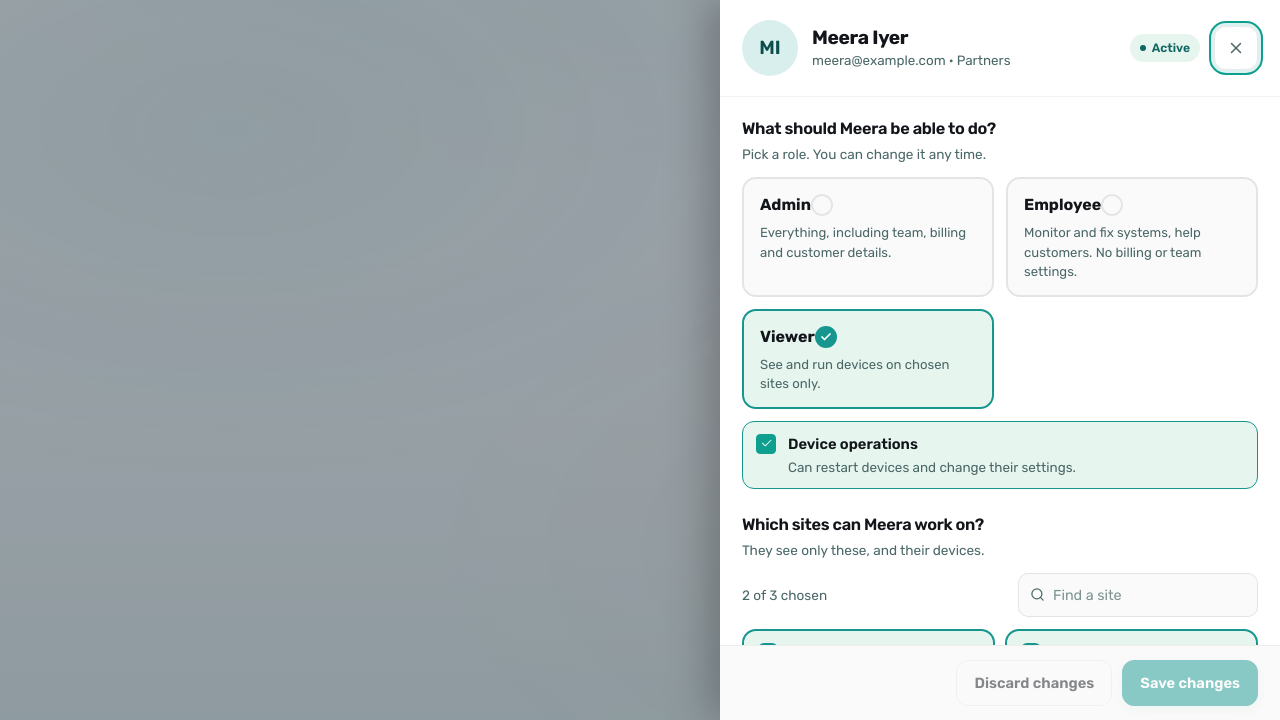
Scenario: PersonPanel › tells you the site list is cleared when a viewer becomes an employee
Click the radio button labelled "Employee". click: {"x": 1132, "y": 237}
box: top-left (1006, 178), bottom-right (1258, 297)
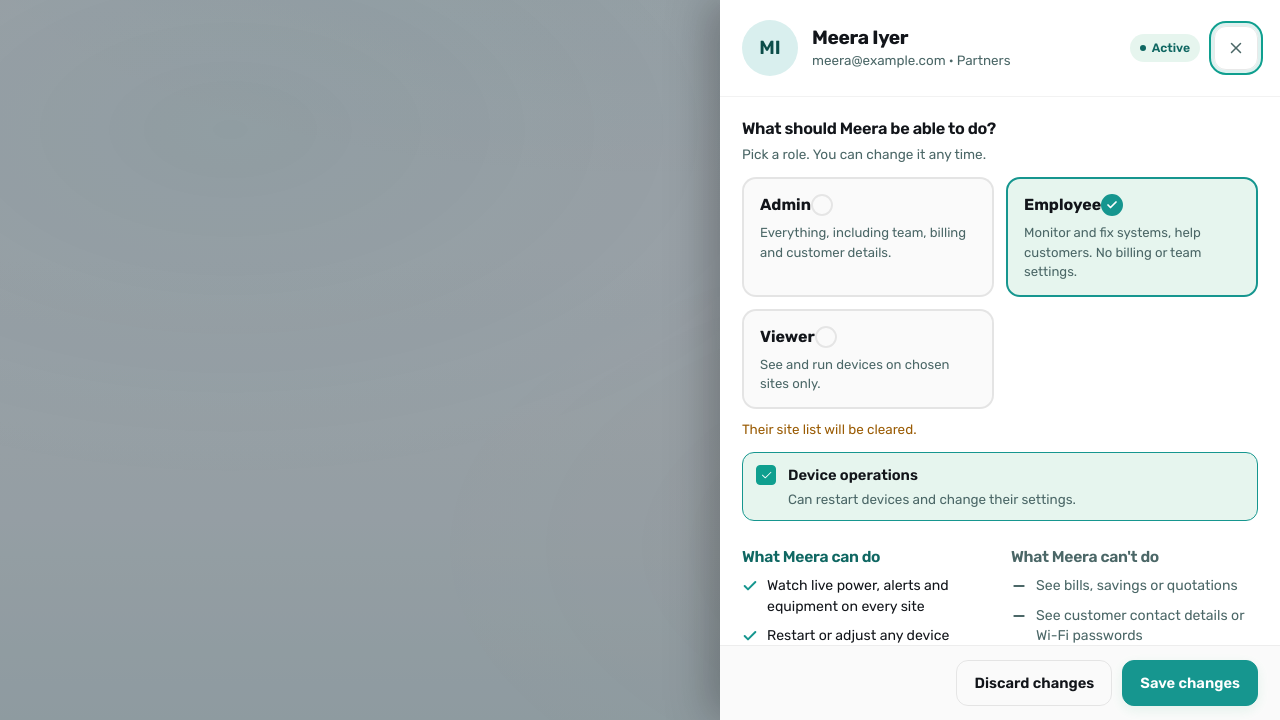
Result: the text "Their site list will be cleared." is shown at top-left (742, 421), bottom-right (916, 437)
